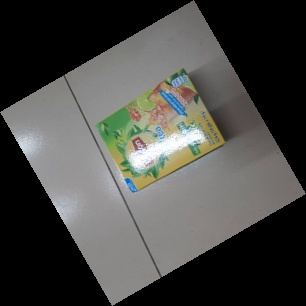LipTon: (94, 68, 226, 195)
